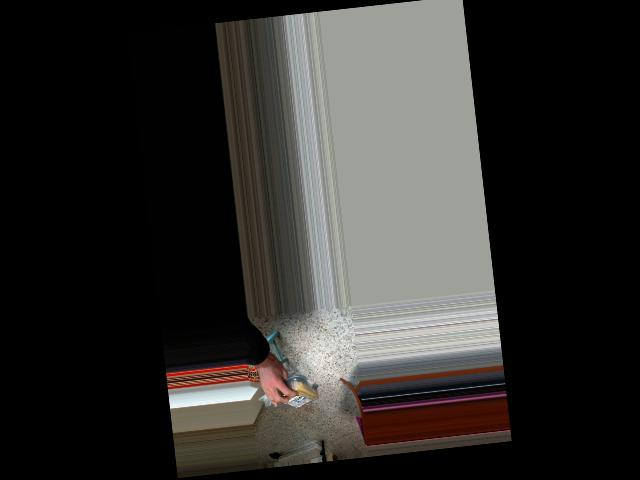cheese: (273, 377, 321, 411)
